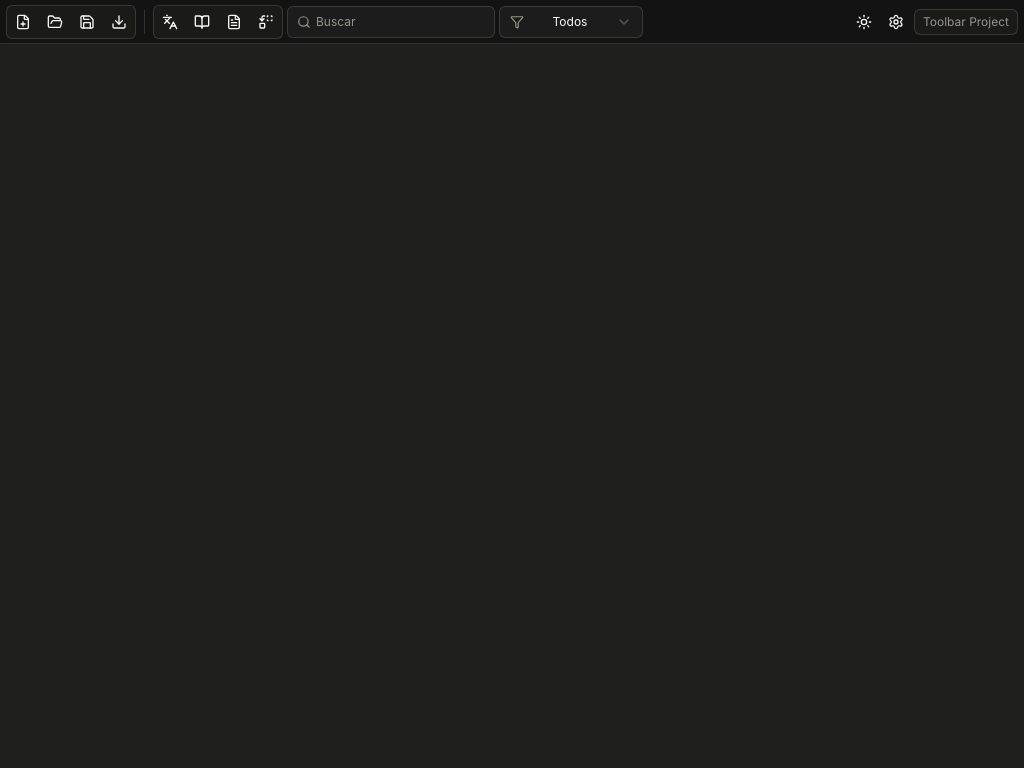
Test: Toolbar export readiness › exporta bajo confirmación y conserva el informe completo hasta cerrarlo
Click the button named "Exportar" at (119, 22), box [105,8,133,36]
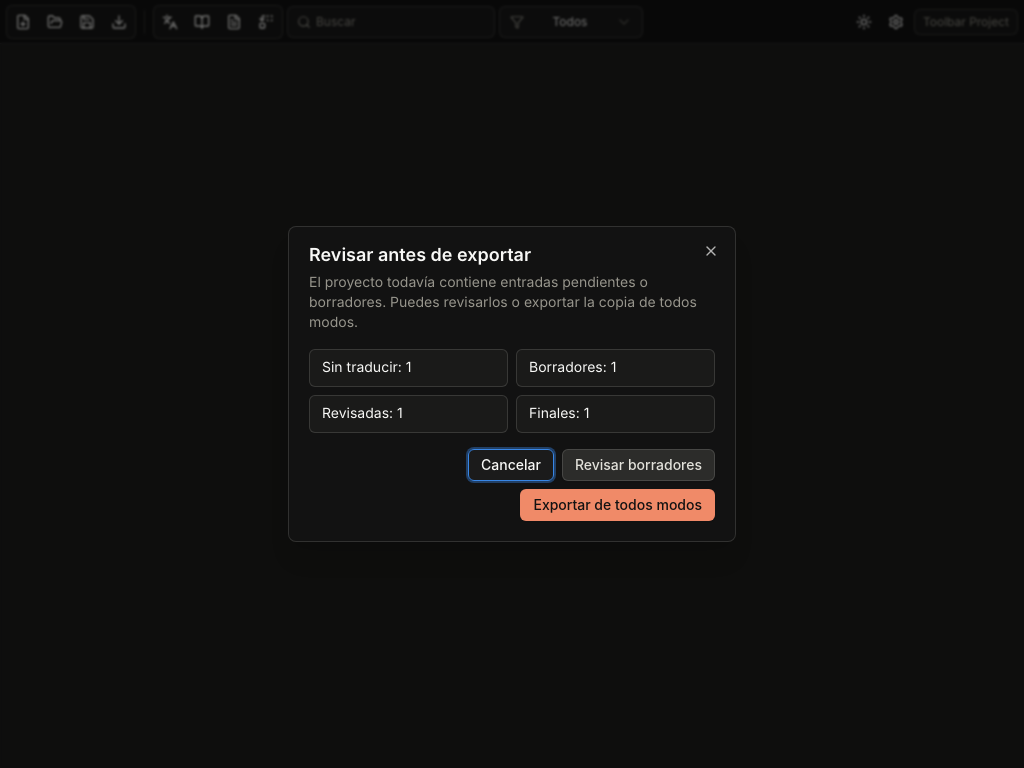
Click the button "Exportar de todos modos" at (618, 505), box [520,489,715,521]
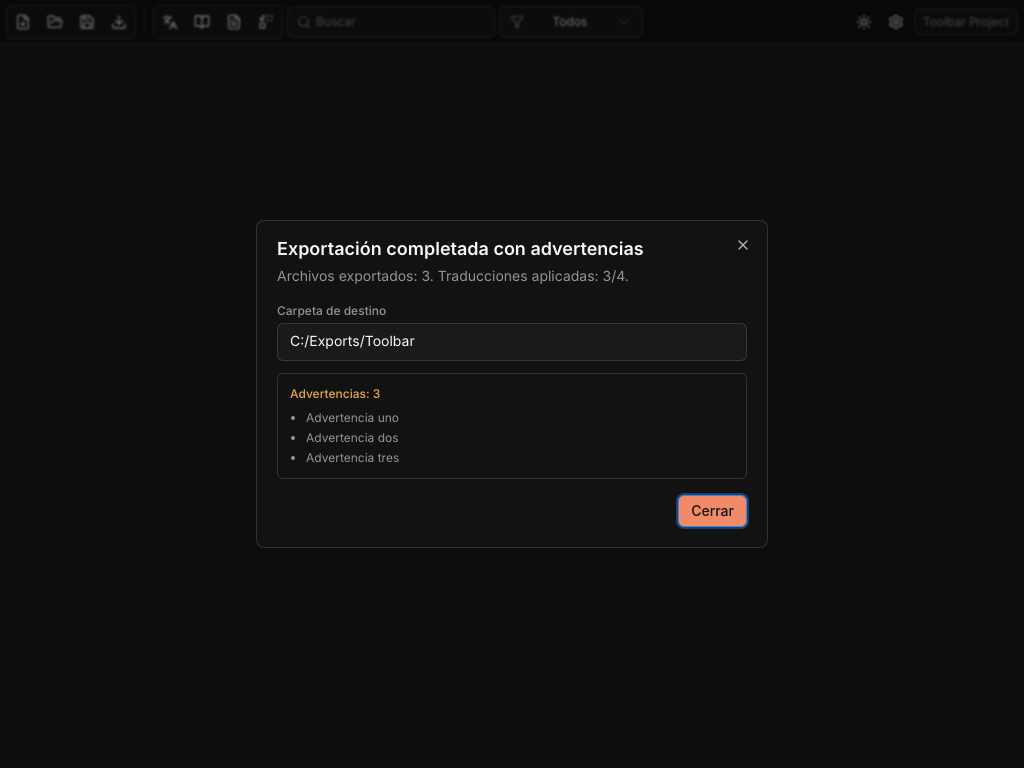
Check: the heading "Exportación completada con advertencias" is shown, box [277,239,644,260]
Check: the text "C:/Exports/Toolbar" is shown, box [277,323,747,361]
Check: the text "Archivos exportados: 3. Traducciones aplicadas: 3/4." is shown, box [277,268,629,285]
